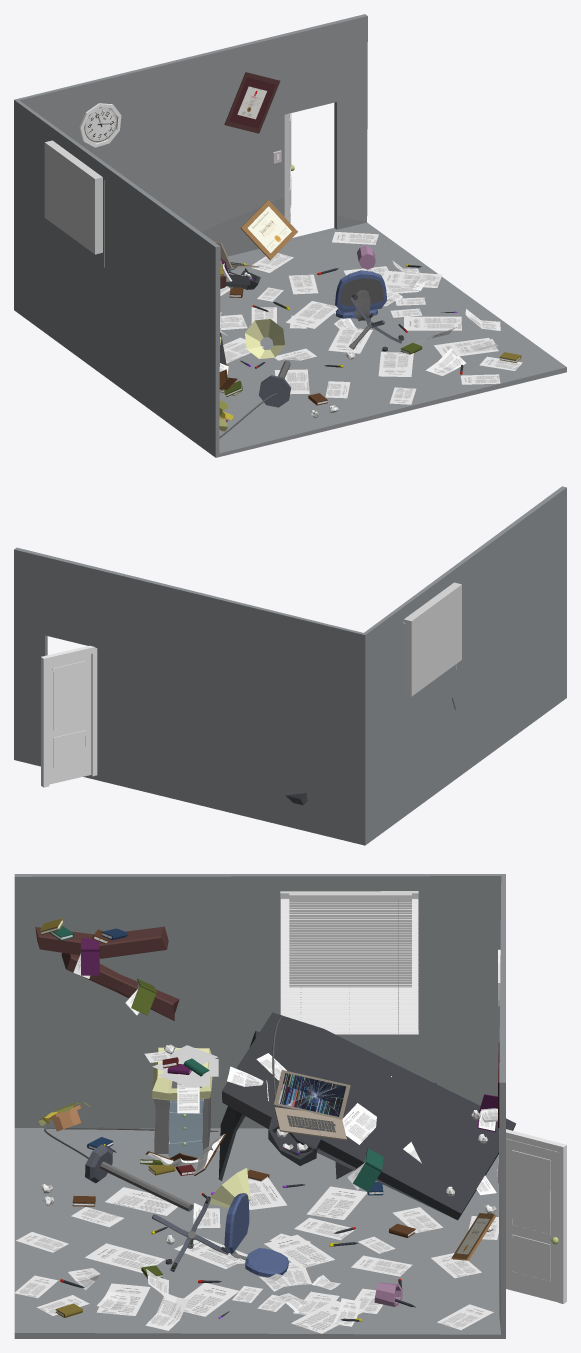
The model's file is stress.fbx.
3 renders of one model, top to bottom at view 1: azimuth 30°, elevation 25°; view 2: azimuth 150°, elevation 25°; view 3: azimuth 270°, elevation 25°, orthographic. The views are drawn at different scales.
Parts seen in each view (by area): view 1: 3638, 2636, 301, 2790, 2577, 2509, 2530, 2141, 2204, 2608, 2498, 2193 (+4 smaller); view 2: 3638, 301, 2471, 2454, 2479; view 3: 3638, 2409, 2636, 117, 301, 2790, 2471, 2479, 3657, 2454, 542, 3613 (+19 smaller).
Part boxes in pixels (bbox=[...]): 3638: bbox=[14, 14, 566, 457]; 2636: bbox=[220, 270, 522, 404]; 301: bbox=[44, 140, 102, 254]; 2790: bbox=[220, 232, 428, 328]; 2577: bbox=[245, 319, 284, 358]; 2509: bbox=[247, 206, 291, 253]; 2530: bbox=[224, 72, 279, 128]; 2141: bbox=[84, 107, 117, 143]; 2204: bbox=[340, 278, 383, 305]; 2608: bbox=[258, 375, 290, 407]; 2498: bbox=[240, 199, 297, 260]; 2193: bbox=[335, 270, 387, 312]; 3638: bbox=[14, 486, 566, 845]; 301: bbox=[403, 582, 461, 696]; 2471: bbox=[49, 654, 91, 784]; 2454: bbox=[41, 645, 97, 787]; 2479: bbox=[54, 662, 84, 729]; 3638: bbox=[14, 874, 505, 1338]; 2409: bbox=[222, 1012, 516, 1220]; 2636: bbox=[14, 1177, 367, 1333]; 117: bbox=[280, 898, 418, 1032]; 301: bbox=[289, 893, 411, 987]; 2790: bbox=[232, 1207, 498, 1329]; 2471: bbox=[506, 1138, 558, 1302]; 2479: bbox=[512, 1152, 549, 1233]; 3657: bbox=[35, 926, 168, 958]; 2454: bbox=[499, 1129, 566, 1303]; 542: bbox=[278, 1073, 346, 1116]; 3613: bbox=[168, 1099, 203, 1158].
Bounding box in the file's own units: 226 × 126 × 246.
